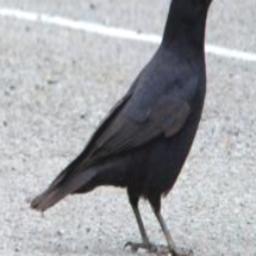Crow: (29, 0, 231, 256)
